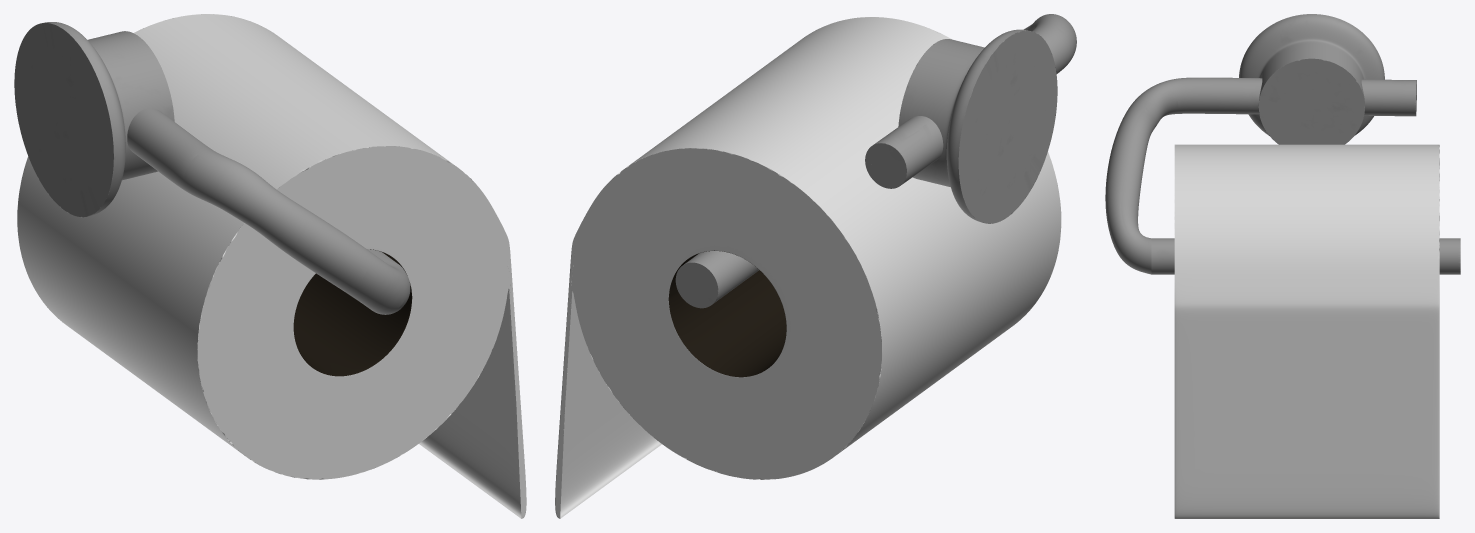
Rendered from obj_toilet_paper_holder_43221e.glb.
3 renders of one model, left to right at view 1: azimuth 30°, elevation 25°; view 2: azimuth 150°, elevation 25°; view 3: azimuth 270°, elevation 25°, orthographic. The views are drawn at different scales.
Visible parts, largest first — view 1: obj_toilet_paper_holder_43221e; view 2: obj_toilet_paper_holder_43221e; view 3: obj_toilet_paper_holder_43221e.
Part boxes in pixels (x1,y1,x2,y2): obj_toilet_paper_holder_43221e: [14, 14, 526, 518]; obj_toilet_paper_holder_43221e: [555, 14, 1076, 518]; obj_toilet_paper_holder_43221e: [1105, 14, 1460, 518].
Size of the model in its own units: 0.0836 by 0.11 by 0.0946.
4 materials, 2 textured.
